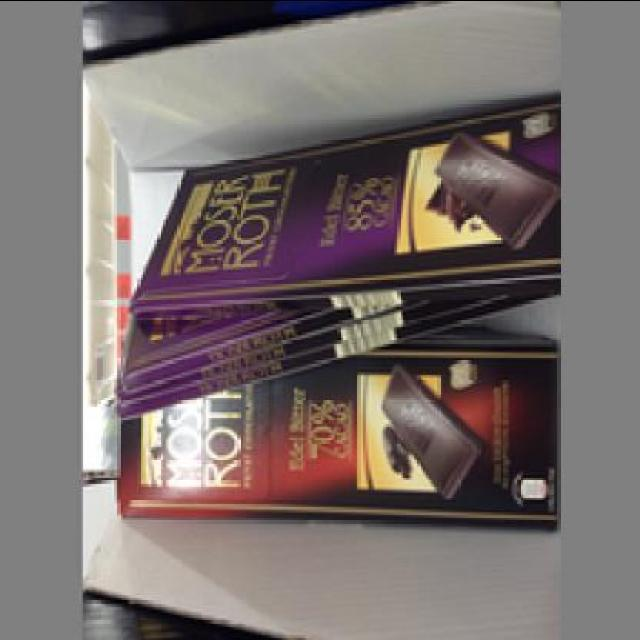Chocolate bar: (126, 103, 557, 320), (114, 347, 554, 530)
